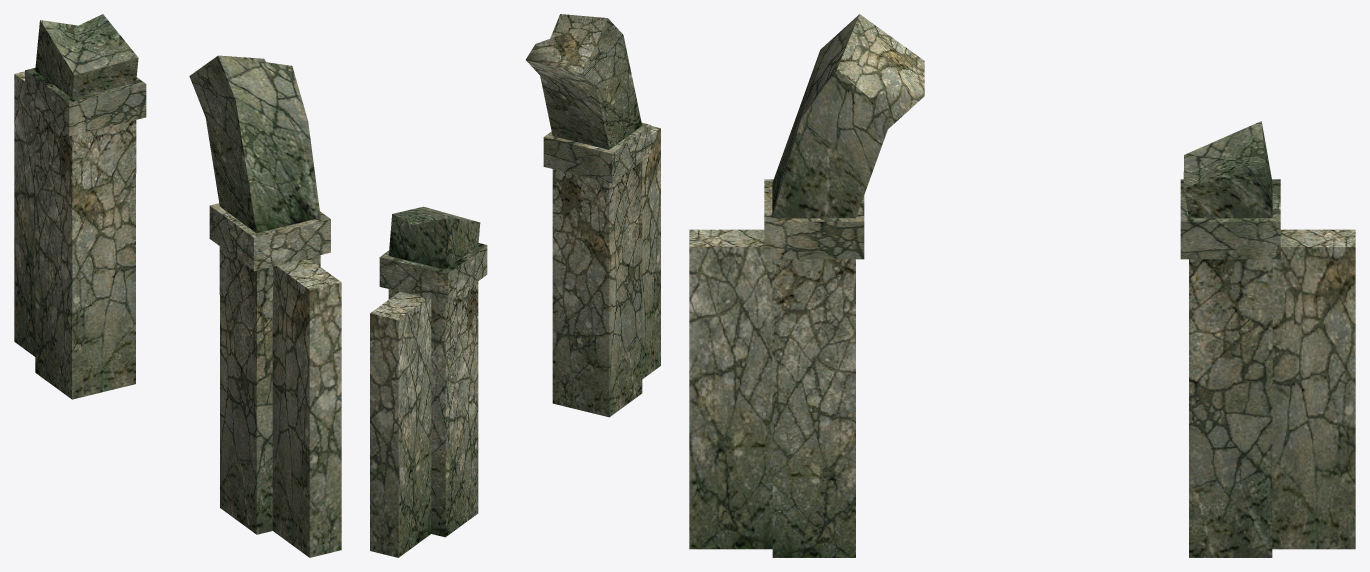
The model's file is thm_nboo_gungan_damaged_wide_arch_s01_l1.fbx.
The picture shows the model from 3 angles, left to right: view 1: azimuth 30°, elevation 25°; view 2: azimuth 150°, elevation 25°; view 3: azimuth 270°, elevation 25°; orthographic projection. The views are drawn at different scales.
Visible parts, largest first — view 1: mesh_node; view 2: mesh_node; view 3: mesh_node.
Part boxes in pixels (bbox=[...]): mesh_node: bbox=[14, 14, 341, 557]; mesh_node: bbox=[370, 14, 660, 557]; mesh_node: bbox=[689, 14, 1355, 557].
Bounding box in the file's own units: 1.2 × 6.74 × 8.
